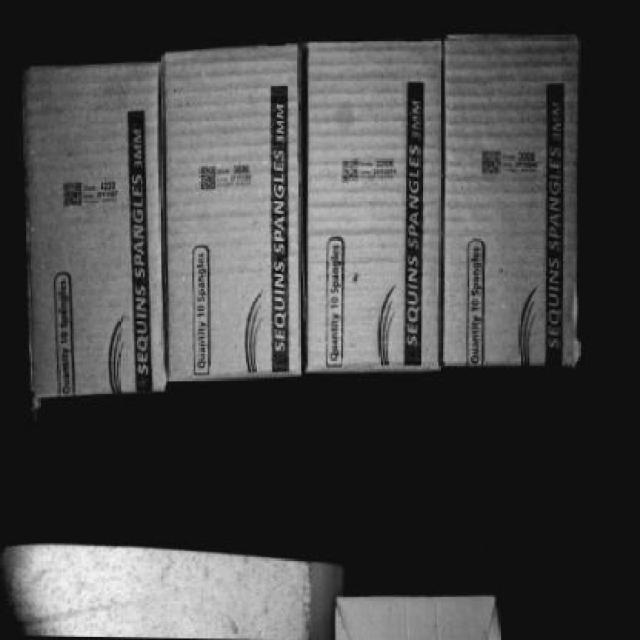box: (25, 70, 170, 401), (162, 54, 310, 378), (308, 40, 447, 372), (443, 39, 583, 359)
